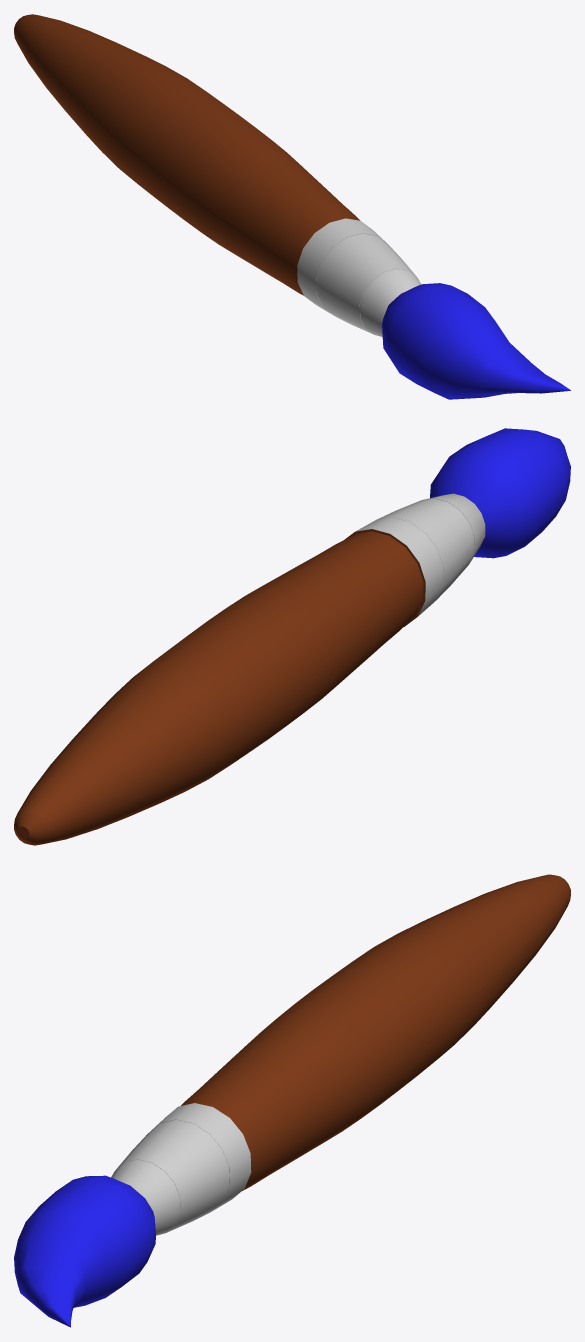
Rendered from PaintBrush.fbx.
3 renders of one model, top to bottom at view 1: azimuth 30°, elevation 25°; view 2: azimuth 150°, elevation 25°; view 3: azimuth 330°, elevation 25°, orthographic. The views are drawn at different scales.
Visible parts, largest first — view 1: PaintBrush; view 2: PaintBrush; view 3: PaintBrush.
Part boxes in pixels (x1,y1,x2,y2): PaintBrush: (14, 14, 570, 399); PaintBrush: (14, 428, 570, 845); PaintBrush: (14, 874, 570, 1327).
Size of the model in its own units: 4.3 by 4.08 by 34.28.
